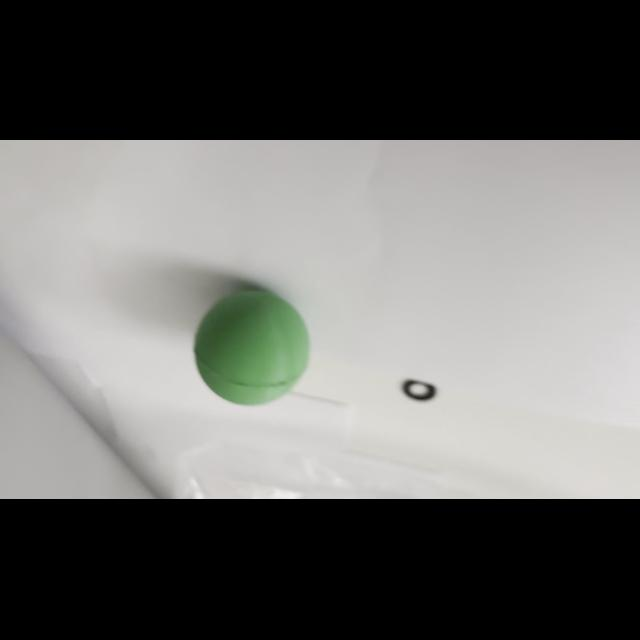objects: (186, 283, 314, 413)
